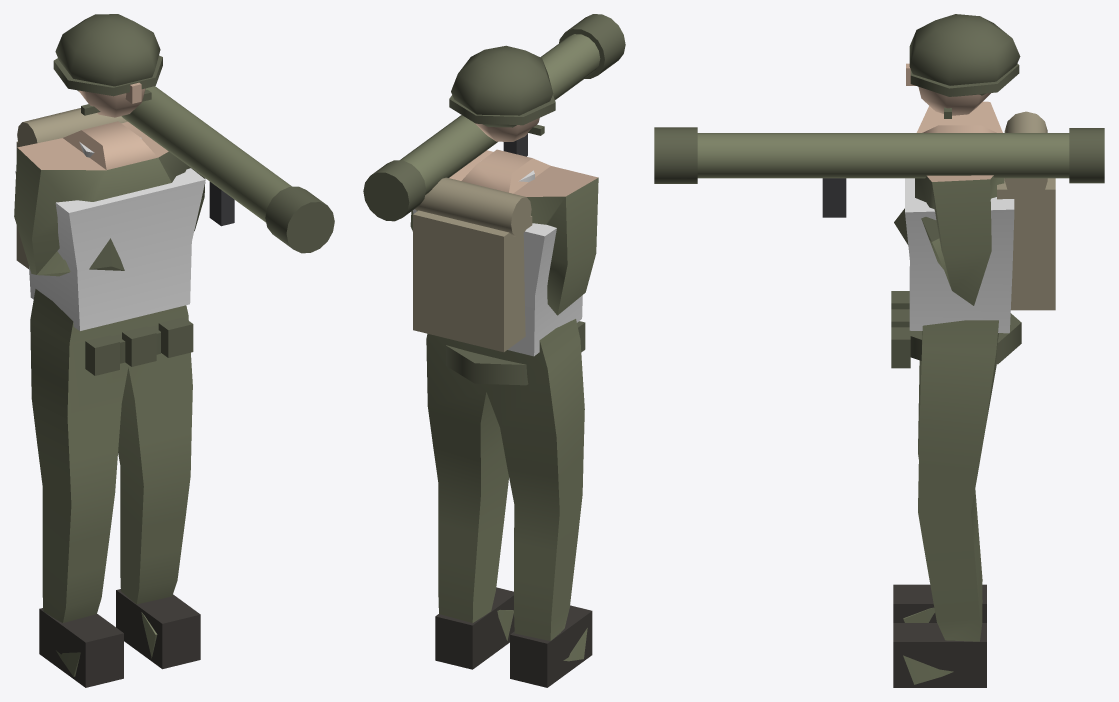
File: bazooka_lod1.glb
3 views of the same model, side by side, from view 1: azimuth 30°, elevation 25°; view 2: azimuth 150°, elevation 25°; view 3: azimuth 270°, elevation 25° (orthographic). The views are drawn at different scales.
Visible parts, largest first — view 1: body; view 2: body; view 3: body.
Boxes of the visible parts, x1=… form: body: x1=14, y1=14, x2=334, y2=687; body: x1=363, y1=14, x2=625, y2=687; body: x1=654, y1=14, x2=1104, y2=687.
Bounding box in the file's own units: 0.518 × 1.8 × 1.15.
